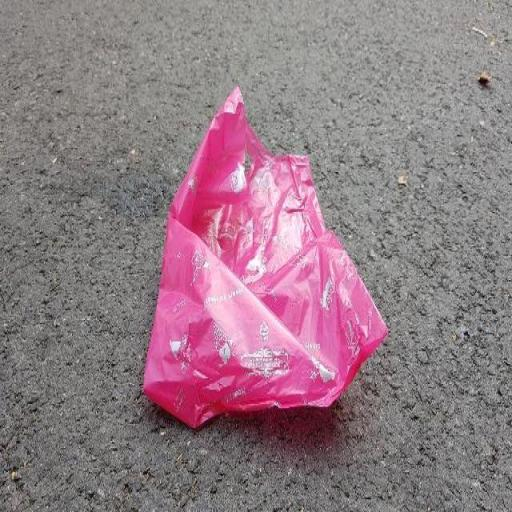plastic-bag: (140, 84, 390, 441)
